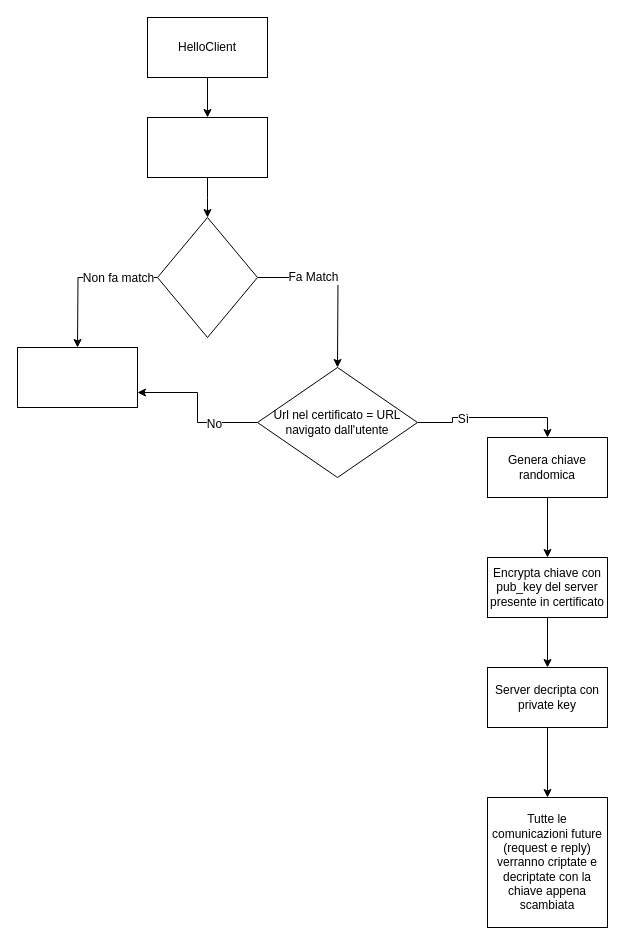
Image size: 625x945. Some labels were removed from this diagram. The centre of each missing label's shape, as x and y in pixels:
Check della CA: the point at 207,277
HelloServer (contiene certificato): the point at 207,147
Sito non sicuro: the point at 77,377
